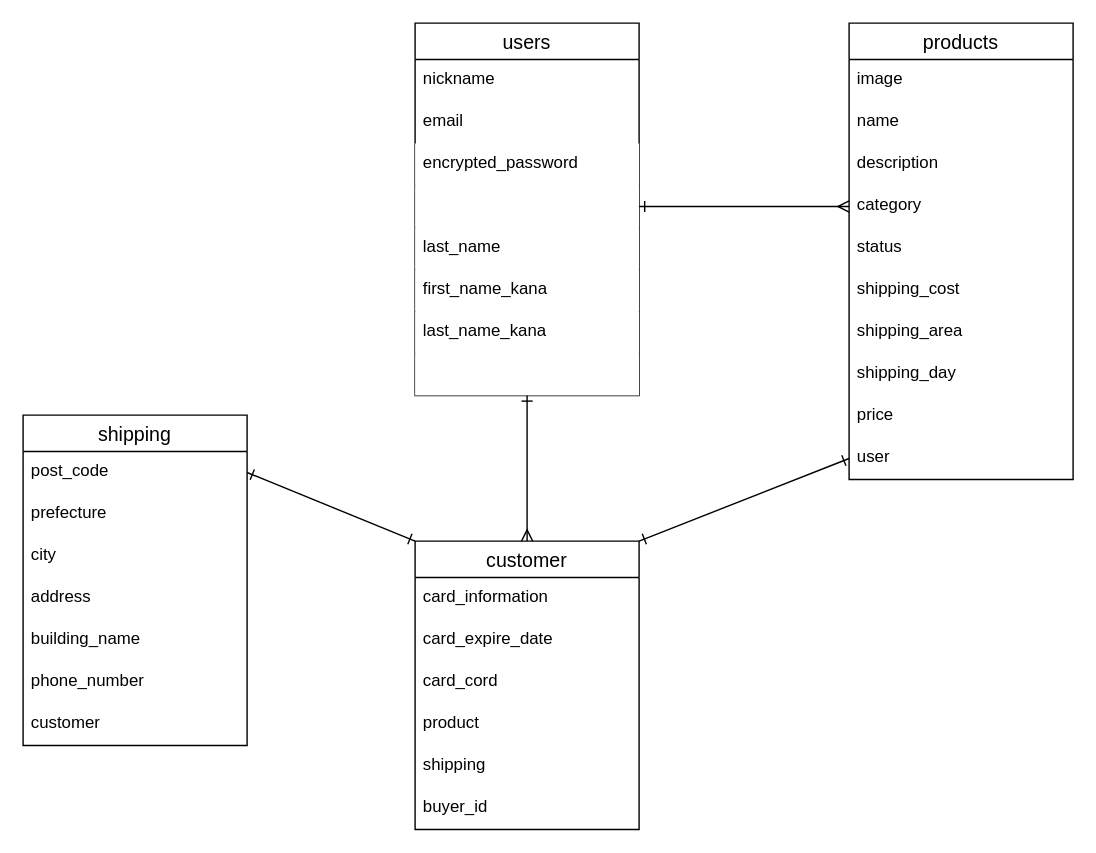
Some shapes in this 1096 by 853 pixel diagram are drawn without their labels. Here are the shapes that lost their labels. From the top down, the centre of each, then its label:
(526,206): first_name
(526,374): birthday
